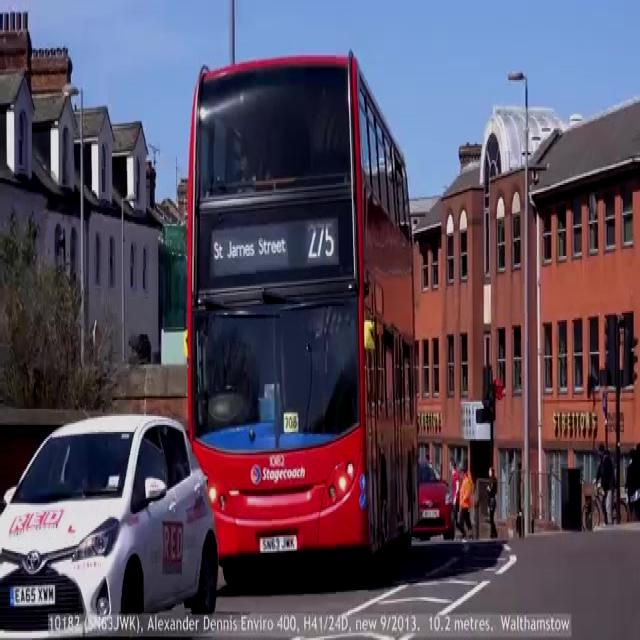bus: (180, 54, 421, 573)
